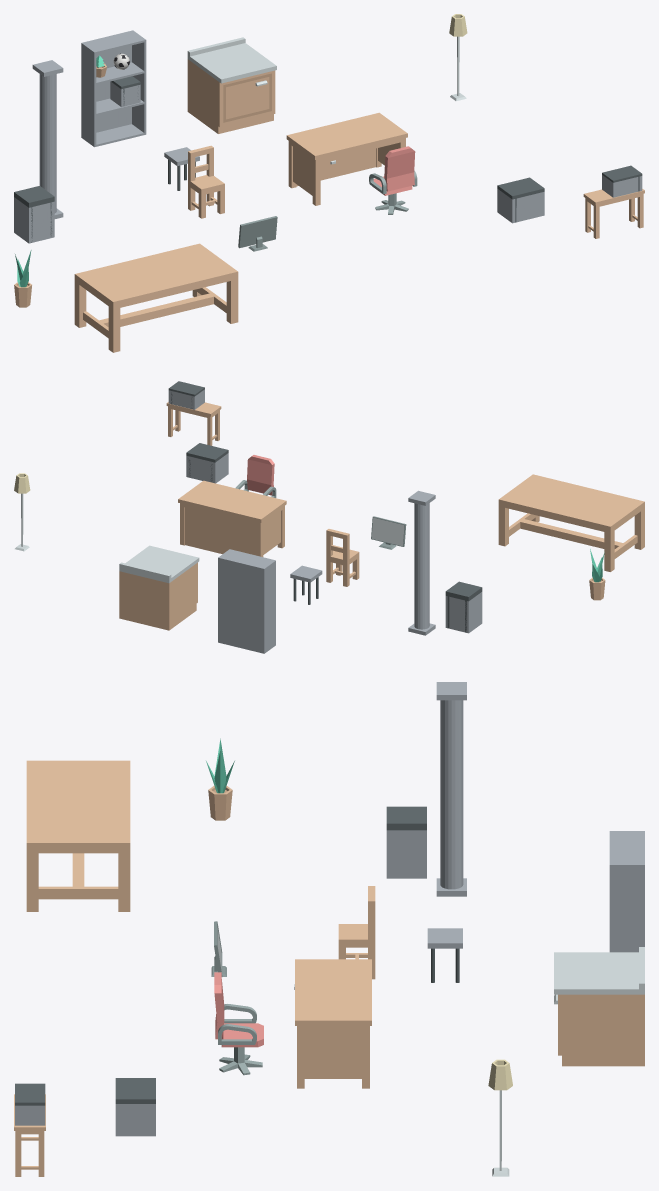
The picture shows the model from 3 angles, top to bottom: view 1: azimuth 30°, elevation 25°; view 2: azimuth 150°, elevation 25°; view 3: azimuth 270°, elevation 25°; orthographic projection. The views are drawn at different scales.
Parts seen in each view (by area): view 1: table_green__table(Clone), desk_blue__desk(Clone), cabinet_blue__kitchenCabinet(Clone), column_cyan__column_cyan shaft, cabinet_blue__door, chair_cyan__chair(Clone), deskchair_black__chair, shelf_orange__shelf_orange side_l, bin_gray__bin_gray shell, sidetable_brown__sideTable(Clone), shelf_orange__shelf_orange back, crate_red__crate_red shell (+10 smaller); view 2: table_green__table(Clone), desk_blue__desk(Clone), cabinet_blue__kitchenCabinet(Clone), shelf_orange__shelf_orange back, column_cyan__column_cyan shaft, chair_cyan__chair(Clone), shelf_orange__shelf_orange side_l, bin_gray__bin_gray shell, deskchair_black__chair, sidetable_brown__sideTable(Clone), crate_red__crate_red shell, monitor_gray__computerScreen(Clone) (+5 smaller); view 3: table_green__table(Clone), cabinet_blue__kitchenCabinet(Clone), desk_blue__desk(Clone), column_cyan__column_cyan shaft, shelf_orange__shelf_orange side_r, bin_gray__bin_gray shell, deskchair_black__chair, chair_cyan__chair(Clone), crate_red__crate_red shell, sidetable_brown__sideTable(Clone), shelf_orange__shelf_orange board3, lamp_white__lampRoundFloor(Clone) (+5 smaller).
Boxes of the visible parts, x1,y1,x2,y2 form: table_green__table(Clone): [74, 243, 238, 352]; desk_blue__desk(Clone): [286, 112, 407, 205]; cabinet_blue__kitchenCabinet(Clone): [187, 37, 276, 133]; column_cyan__column_cyan shaft: [39, 74, 56, 213]; cabinet_blue__door: [223, 73, 271, 122]; chair_cyan__chair(Clone): [188, 145, 224, 218]; deskchair_black__chair: [369, 146, 417, 195]; shelf_orange__shelf_orange side_l: [81, 42, 96, 147]; bin_gray__bin_gray shell: [14, 197, 54, 243]; sidetable_brown__sideTable(Clone): [583, 189, 644, 238]; shelf_orange__shelf_orange back: [83, 31, 131, 132]; crate_red__crate_red shell: [497, 189, 544, 223]; table_green__table(Clone): [498, 474, 644, 571]; desk_blue__desk(Clone): [178, 480, 286, 556]; cabinet_blue__kitchenCabinet(Clone): [119, 545, 199, 630]; shelf_orange__shelf_orange back: [219, 557, 262, 653]; column_cyan__column_cyan shaft: [414, 503, 429, 629]; chair_cyan__chair(Clone): [326, 529, 359, 586]; shelf_orange__shelf_orange side_l: [262, 560, 275, 653]; bin_gray__bin_gray shell: [445, 592, 482, 633]; deskchair_black__chair: [235, 455, 276, 497]; sidetable_brown__sideTable(Clone): [166, 402, 221, 445]; crate_red__crate_red shell: [186, 453, 228, 483]; monitor_gray__computerScreen(Clone): [371, 516, 406, 549]; table_green__table(Clone): [26, 760, 130, 911]; cabinet_blue__kitchenCabinet(Clone): [554, 947, 644, 1066]; desk_blue__desk(Clone): [295, 959, 371, 1088]; column_cyan__column_cyan shaft: [440, 700, 463, 889]; shelf_orange__shelf_orange side_r: [609, 863, 644, 952]; bin_gray__bin_gray shell: [386, 830, 426, 878]; deskchair_black__chair: [214, 972, 263, 1047]; chair_cyan__chair(Clone): [338, 886, 375, 979]; crate_red__crate_red shell: [115, 1104, 155, 1136]; sidetable_brown__sideTable(Clone): [14, 1094, 45, 1176]; shelf_orange__shelf_orange board3: [609, 832, 642, 863]; lamp_white__lampRoundFloor(Clone): [488, 1059, 512, 1176].
Bounding box in the file's own units: 8.56 × 2.2 × 6.24.
